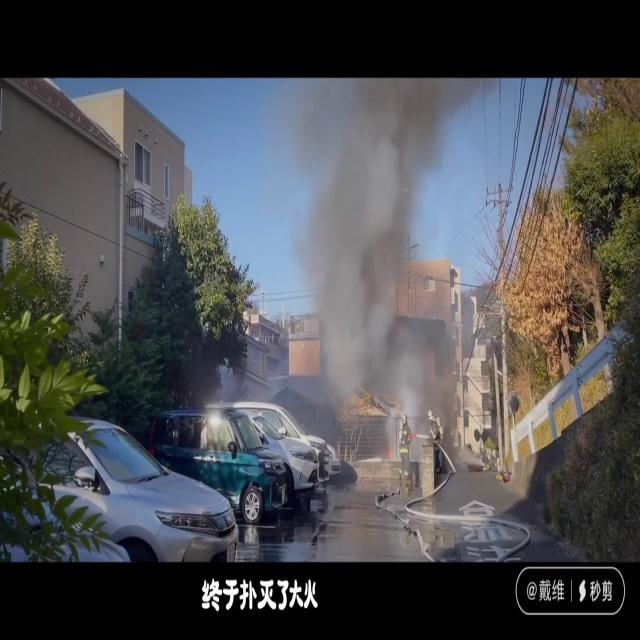Smoke: (292, 79, 452, 422)
